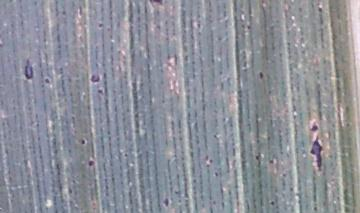tarspot: (307, 133, 326, 177), (21, 55, 36, 83), (305, 116, 325, 134), (83, 153, 98, 171), (87, 69, 103, 85), (160, 194, 172, 211), (203, 154, 215, 170), (314, 2, 326, 15), (41, 73, 52, 87), (256, 68, 266, 83), (94, 19, 106, 31), (95, 85, 106, 98), (146, 1, 165, 8), (253, 152, 264, 163), (242, 20, 252, 32), (267, 198, 277, 208), (279, 170, 289, 180), (60, 7, 68, 19), (80, 135, 88, 147), (267, 157, 277, 166), (212, 169, 220, 180), (121, 151, 130, 159)
